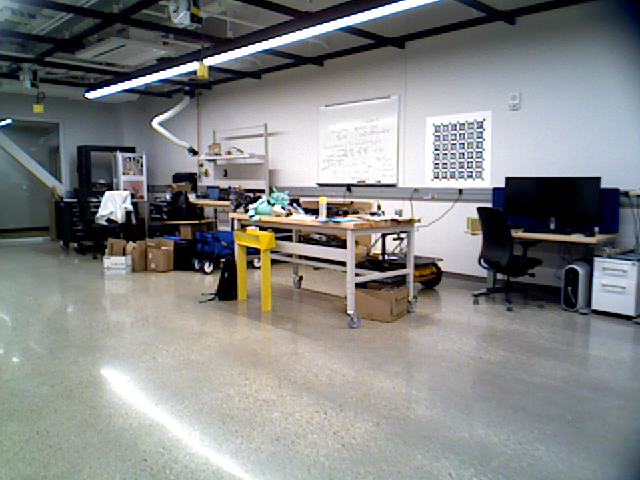painting4: (425, 114, 493, 187)
